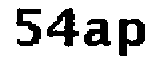4: (44, 4, 80, 53)
5: (15, 6, 44, 48)
a: (83, 16, 114, 52)
p: (117, 17, 148, 60)
